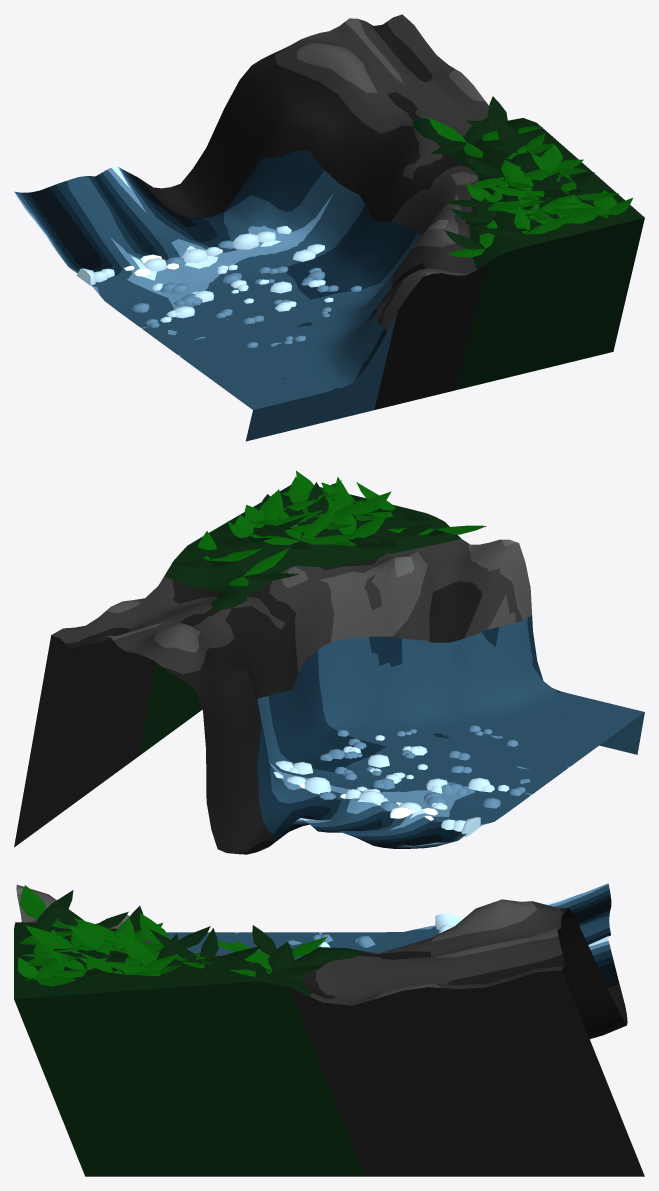
Rendered from torm_fall_br.glb.
3 views of the same model, one above another, from view 1: azimuth 30°, elevation 25°; view 2: azimuth 150°, elevation 25°; view 3: azimuth 270°, elevation 25° (orthographic). The views are drawn at different scales.
Visible parts, largest first — view 1: torm_fall_br; view 2: torm_fall_br; view 3: torm_fall_br.
Part boxes in pixels (x1=…): torm_fall_br: x1=14, y1=14, x2=644, y2=441; torm_fall_br: x1=14, y1=470, x2=644, y2=854; torm_fall_br: x1=14, y1=883, x2=644, y2=1176.
Size of the model in its own units: 24 by 12.18 by 31.57.
